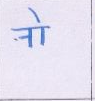o_matra: (35, 12, 48, 45)
